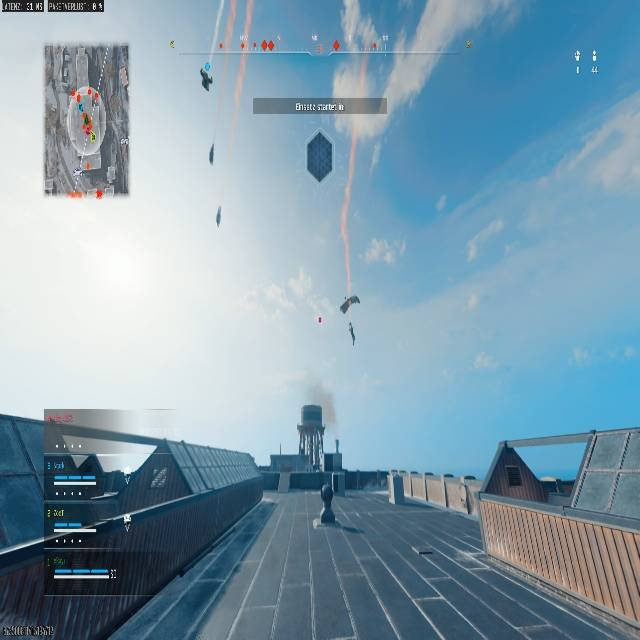player: (319, 481, 334, 521)
